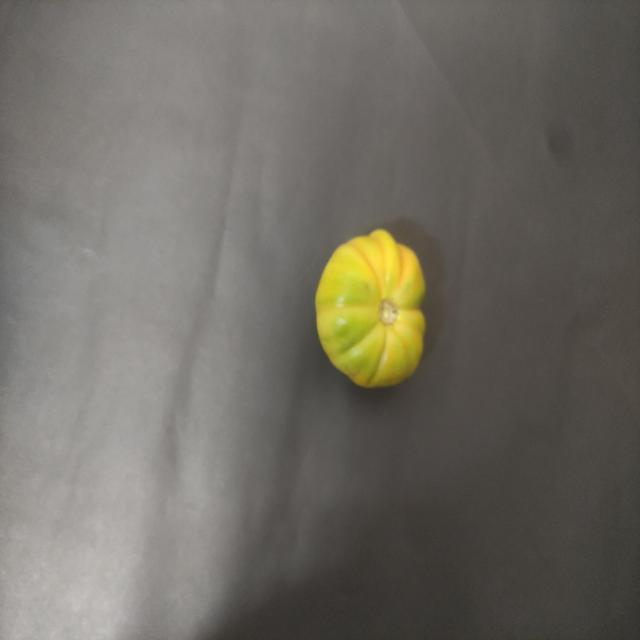yesil: (299, 216, 451, 406)
